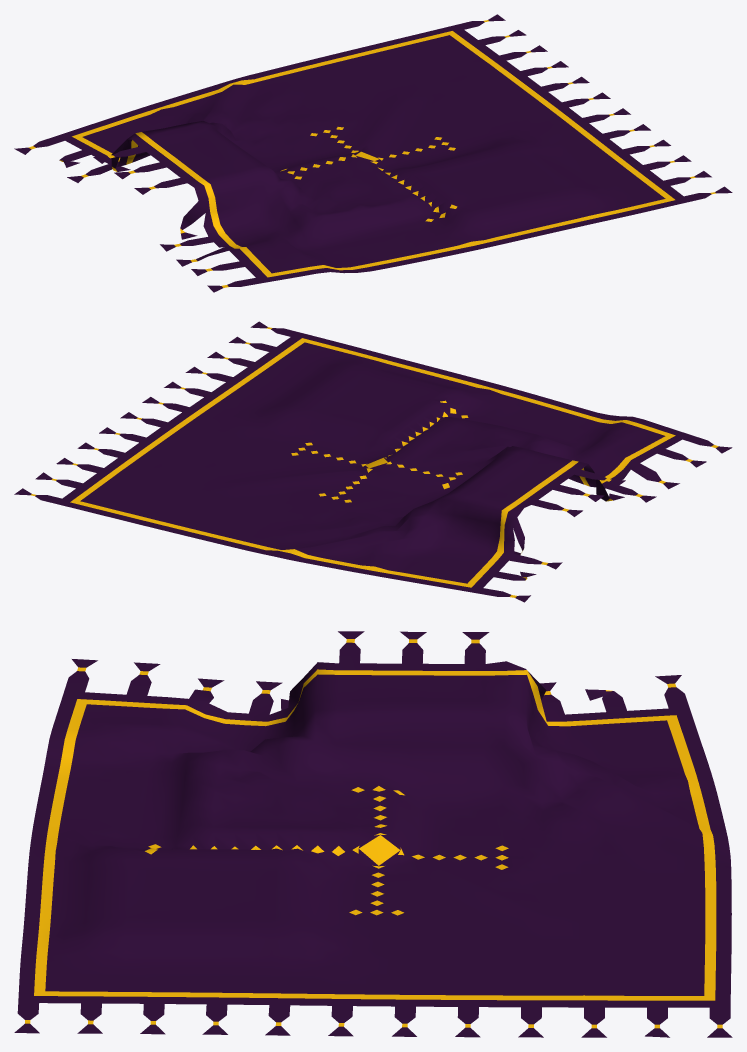
The model's file is Teppich_Kreuz_var2.obj.
3 views of the same model, one above another, from view 1: azimuth 30°, elevation 25°; view 2: azimuth 150°, elevation 25°; view 3: azimuth 270°, elevation 25° (orthographic). The views are drawn at different scales.
Visible parts, largest first — view 1: Teppich_var1; view 2: Teppich_var1; view 3: Teppich_var1.
Boxes of the visible parts, bbox=[...] form: Teppich_var1: bbox=[14, 14, 732, 292]; Teppich_var1: bbox=[14, 321, 732, 602]; Teppich_var1: bbox=[14, 631, 732, 1037].
Bounding box in the file's own units: 2.44 × 0.1761 × 2.02.
